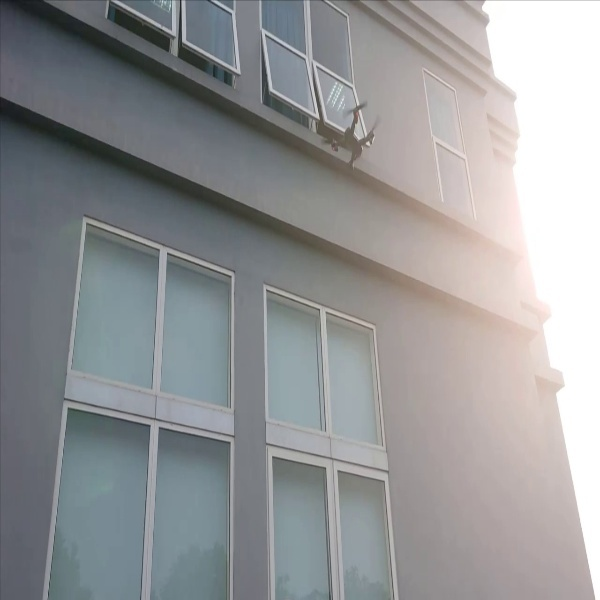drone: (316, 94, 382, 180)
